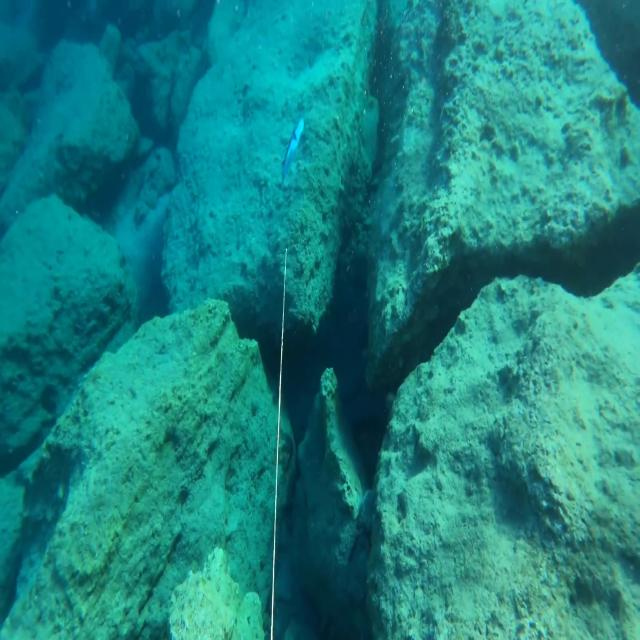Balon Baligi: (279, 115, 305, 188)
